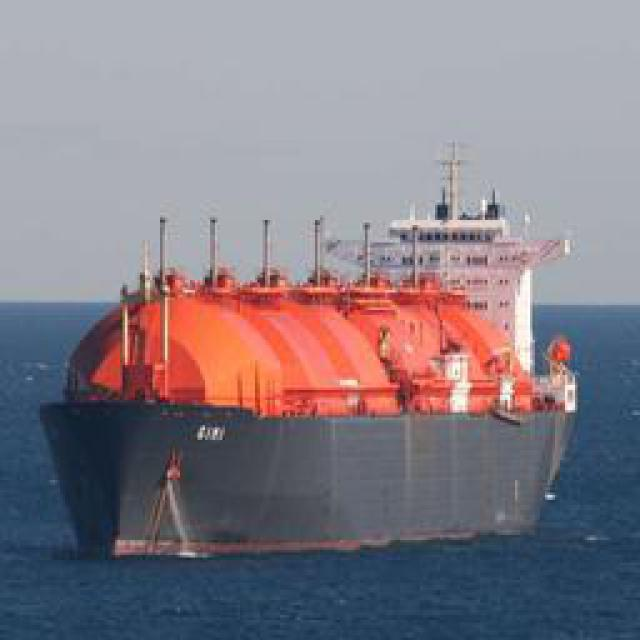Ship: (50, 165, 583, 548)
